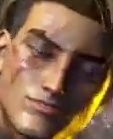kevin: (0, 0, 112, 129)
